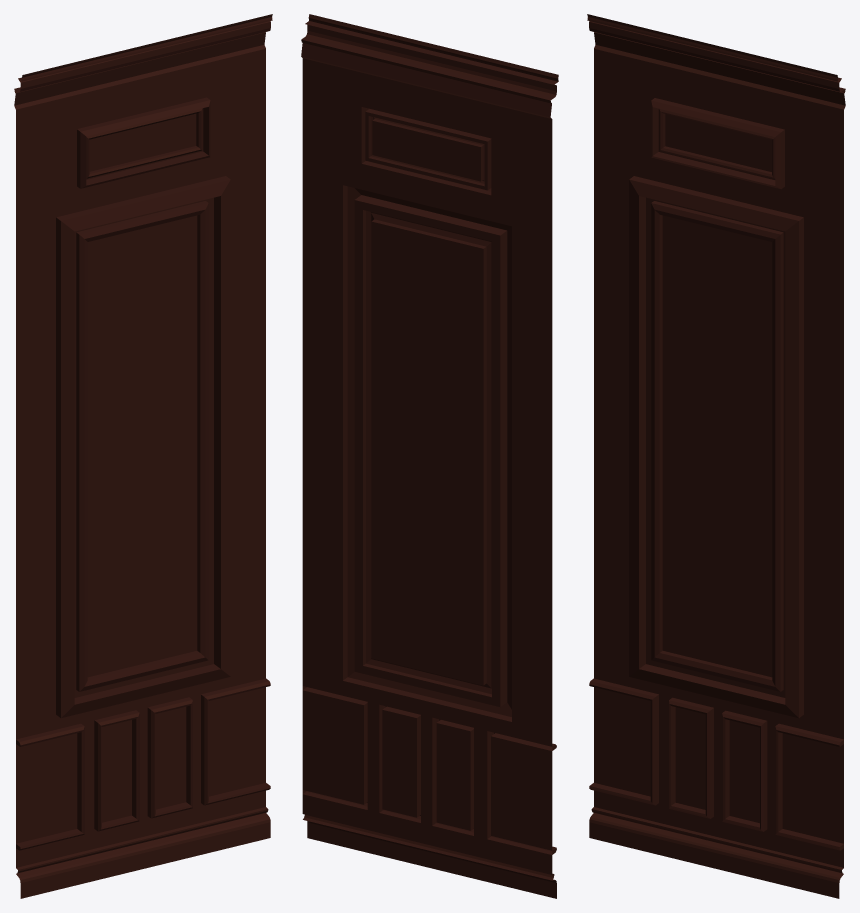
The model's file is wall_small.fbx.
3 views of the same model, side by side, from view 1: azimuth 30°, elevation 25°; view 2: azimuth 150°, elevation 25°; view 3: azimuth 330°, elevation 25° (orthographic).
Visible parts, largest first — view 1: Plane.010; view 2: Plane.010; view 3: Plane.010.
Boxes of the visible parts, bbox=[...] form: Plane.010: bbox=[14, 14, 272, 898]; Plane.010: bbox=[301, 14, 558, 898]; Plane.010: bbox=[587, 14, 845, 898].
Size of the model in its own units: 100 by 315 by 5.9.
